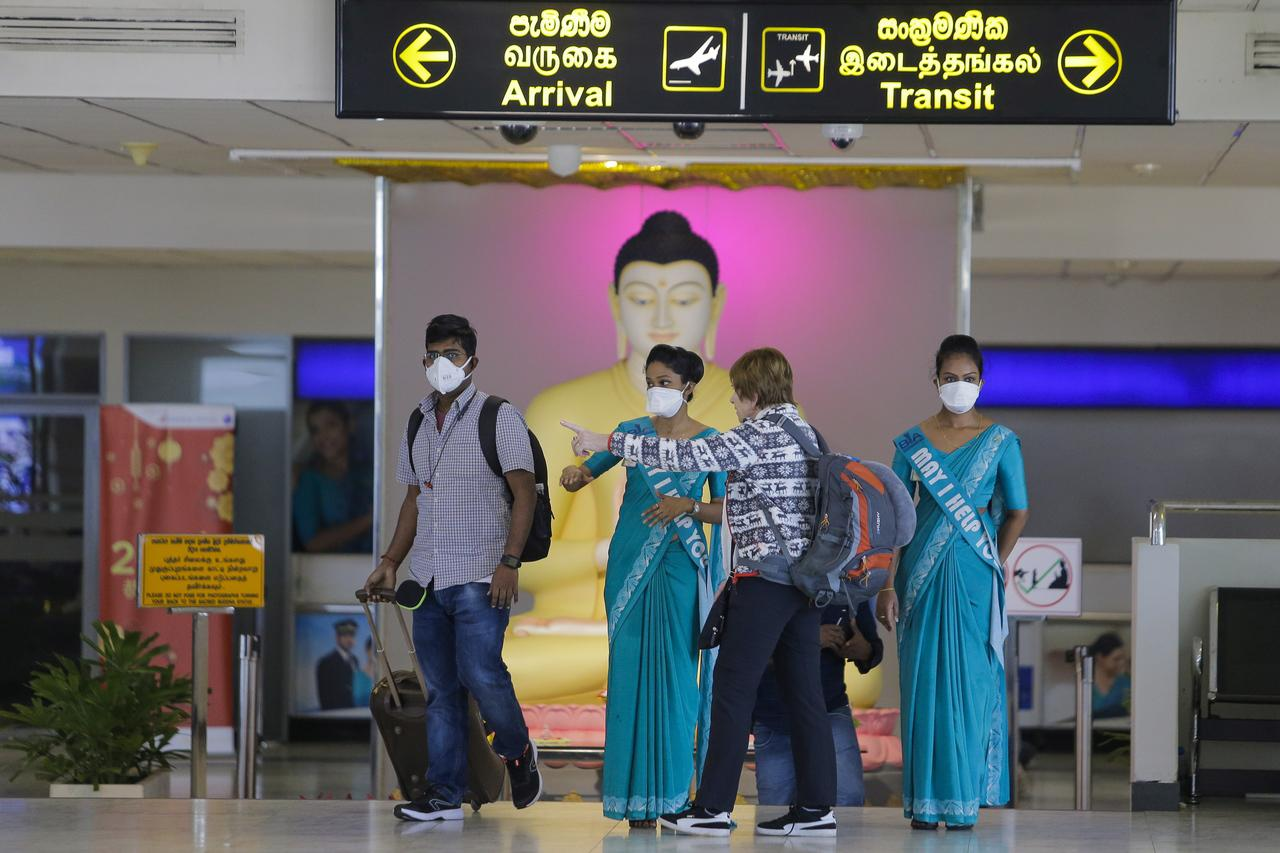mask: (424, 342, 470, 394), (938, 365, 981, 415), (646, 372, 683, 417)
none: (727, 378, 767, 425)
